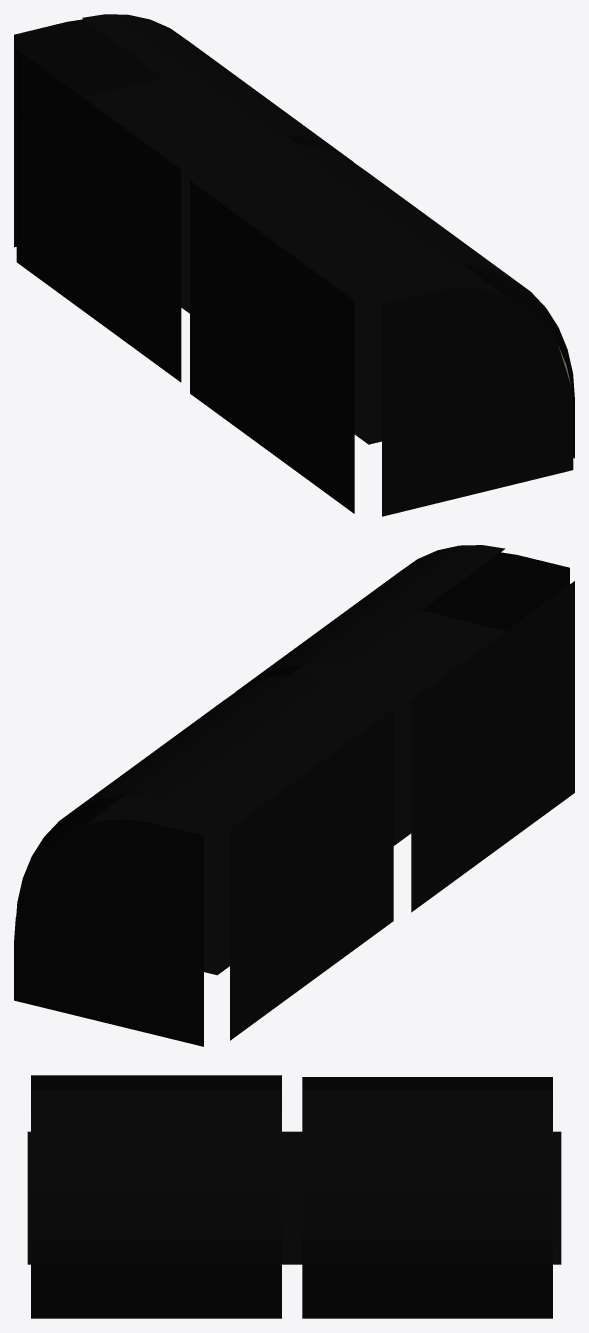
The model's file is Vidrios.obj.
3 views of the same model, one above another, from view 1: azimuth 30°, elevation 25°; view 2: azimuth 150°, elevation 25°; view 3: azimuth 270°, elevation 25° (orthographic). The views are drawn at different scales.
Visible parts, largest first — view 1: CajaR:Vidrios:polySurface2; view 2: CajaR:Vidrios:polySurface2; view 3: CajaR:Vidrios:polySurface2.
Boxes of the visible parts, bbox=[...] form: CajaR:Vidrios:polySurface2: bbox=[14, 14, 574, 516]; CajaR:Vidrios:polySurface2: bbox=[14, 545, 574, 1046]; CajaR:Vidrios:polySurface2: bbox=[27, 1075, 561, 1318].
Size of the model in its own units: 0.993 by 0.9844 by 2.87.
Materials: 3 (1 with a texture image).
